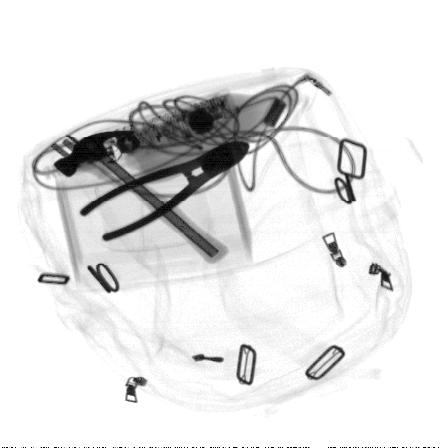Hammer: (54, 130, 231, 265)
Pliers: (81, 141, 248, 241)
